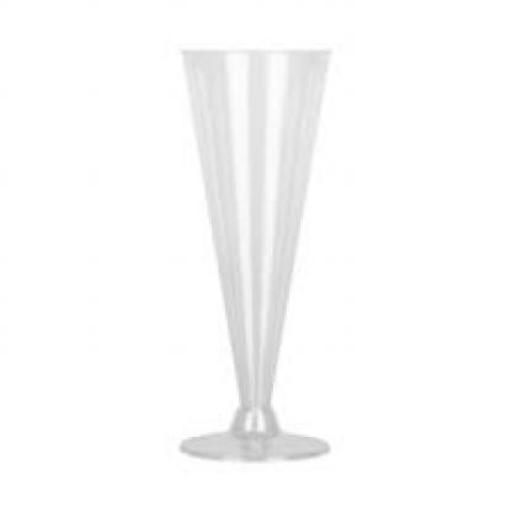glass: (180, 45, 327, 458)
